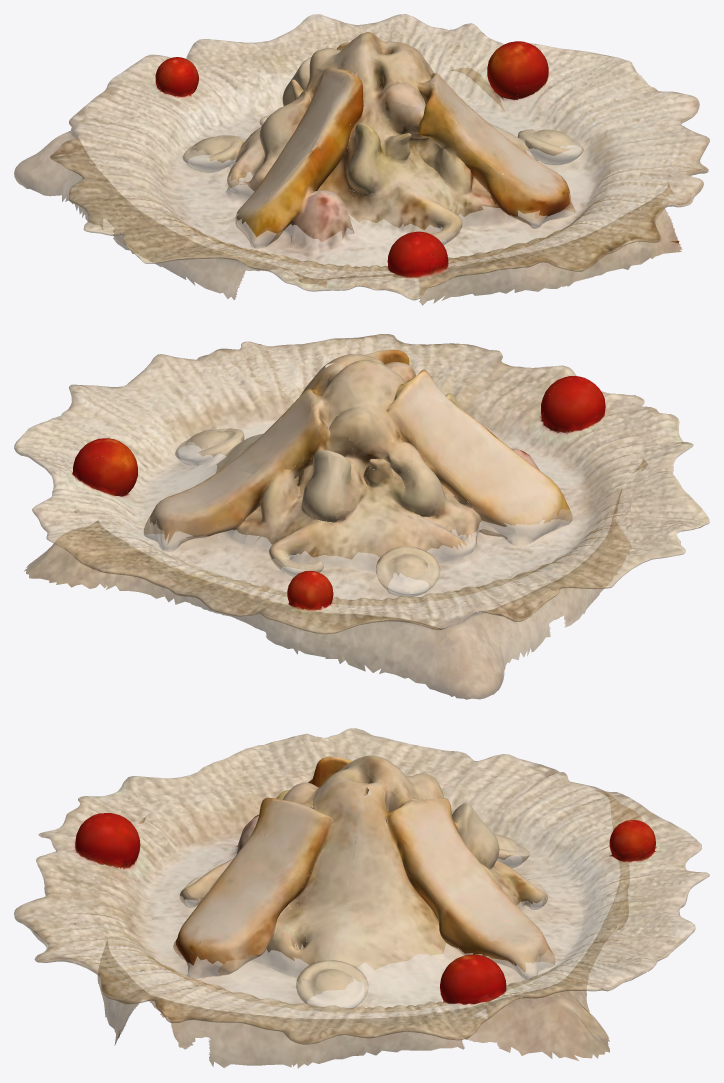
File: sezar.glb
3 views of the same model, one above another, from view 1: azimuth 30°, elevation 25°; view 2: azimuth 150°, elevation 25°; view 3: azimuth 270°, elevation 25° (orthographic). The views are drawn at different scales.
Parts seen in each view (by area): view 1: tripo_node_583f6756-7f95-4b33-9006-d7d4559fe9dd; view 2: tripo_node_583f6756-7f95-4b33-9006-d7d4559fe9dd; view 3: tripo_node_583f6756-7f95-4b33-9006-d7d4559fe9dd.
Part boxes in pixels (bbox=[...]): tripo_node_583f6756-7f95-4b33-9006-d7d4559fe9dd: bbox=[14, 14, 709, 305]; tripo_node_583f6756-7f95-4b33-9006-d7d4559fe9dd: bbox=[14, 334, 709, 699]; tripo_node_583f6756-7f95-4b33-9006-d7d4559fe9dd: bbox=[14, 728, 709, 1067].
Bounding box in the file's own units: 0.9824 × 0.2798 × 0.9237.
Materials: 2 (2 with a texture image).
